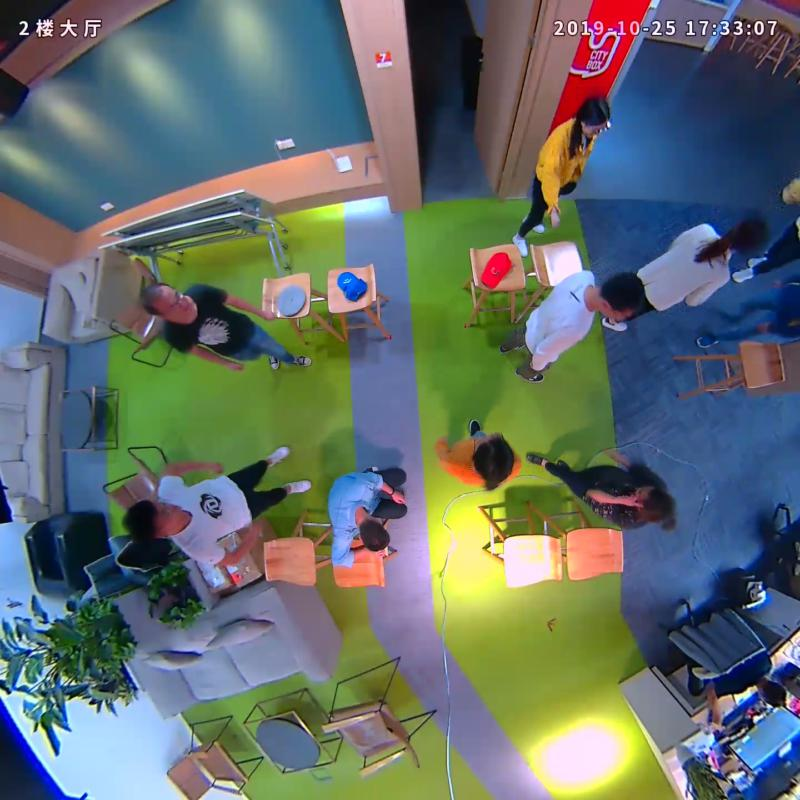head: (116, 493, 193, 545), (588, 267, 652, 326), (465, 428, 519, 493), (625, 482, 685, 537), (131, 276, 194, 327), (718, 213, 776, 263), (349, 516, 403, 561), (569, 94, 616, 139)
